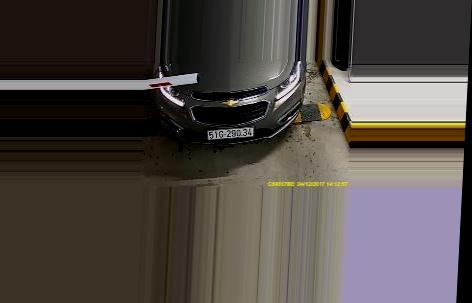License_Plate: (205, 125, 258, 141)
